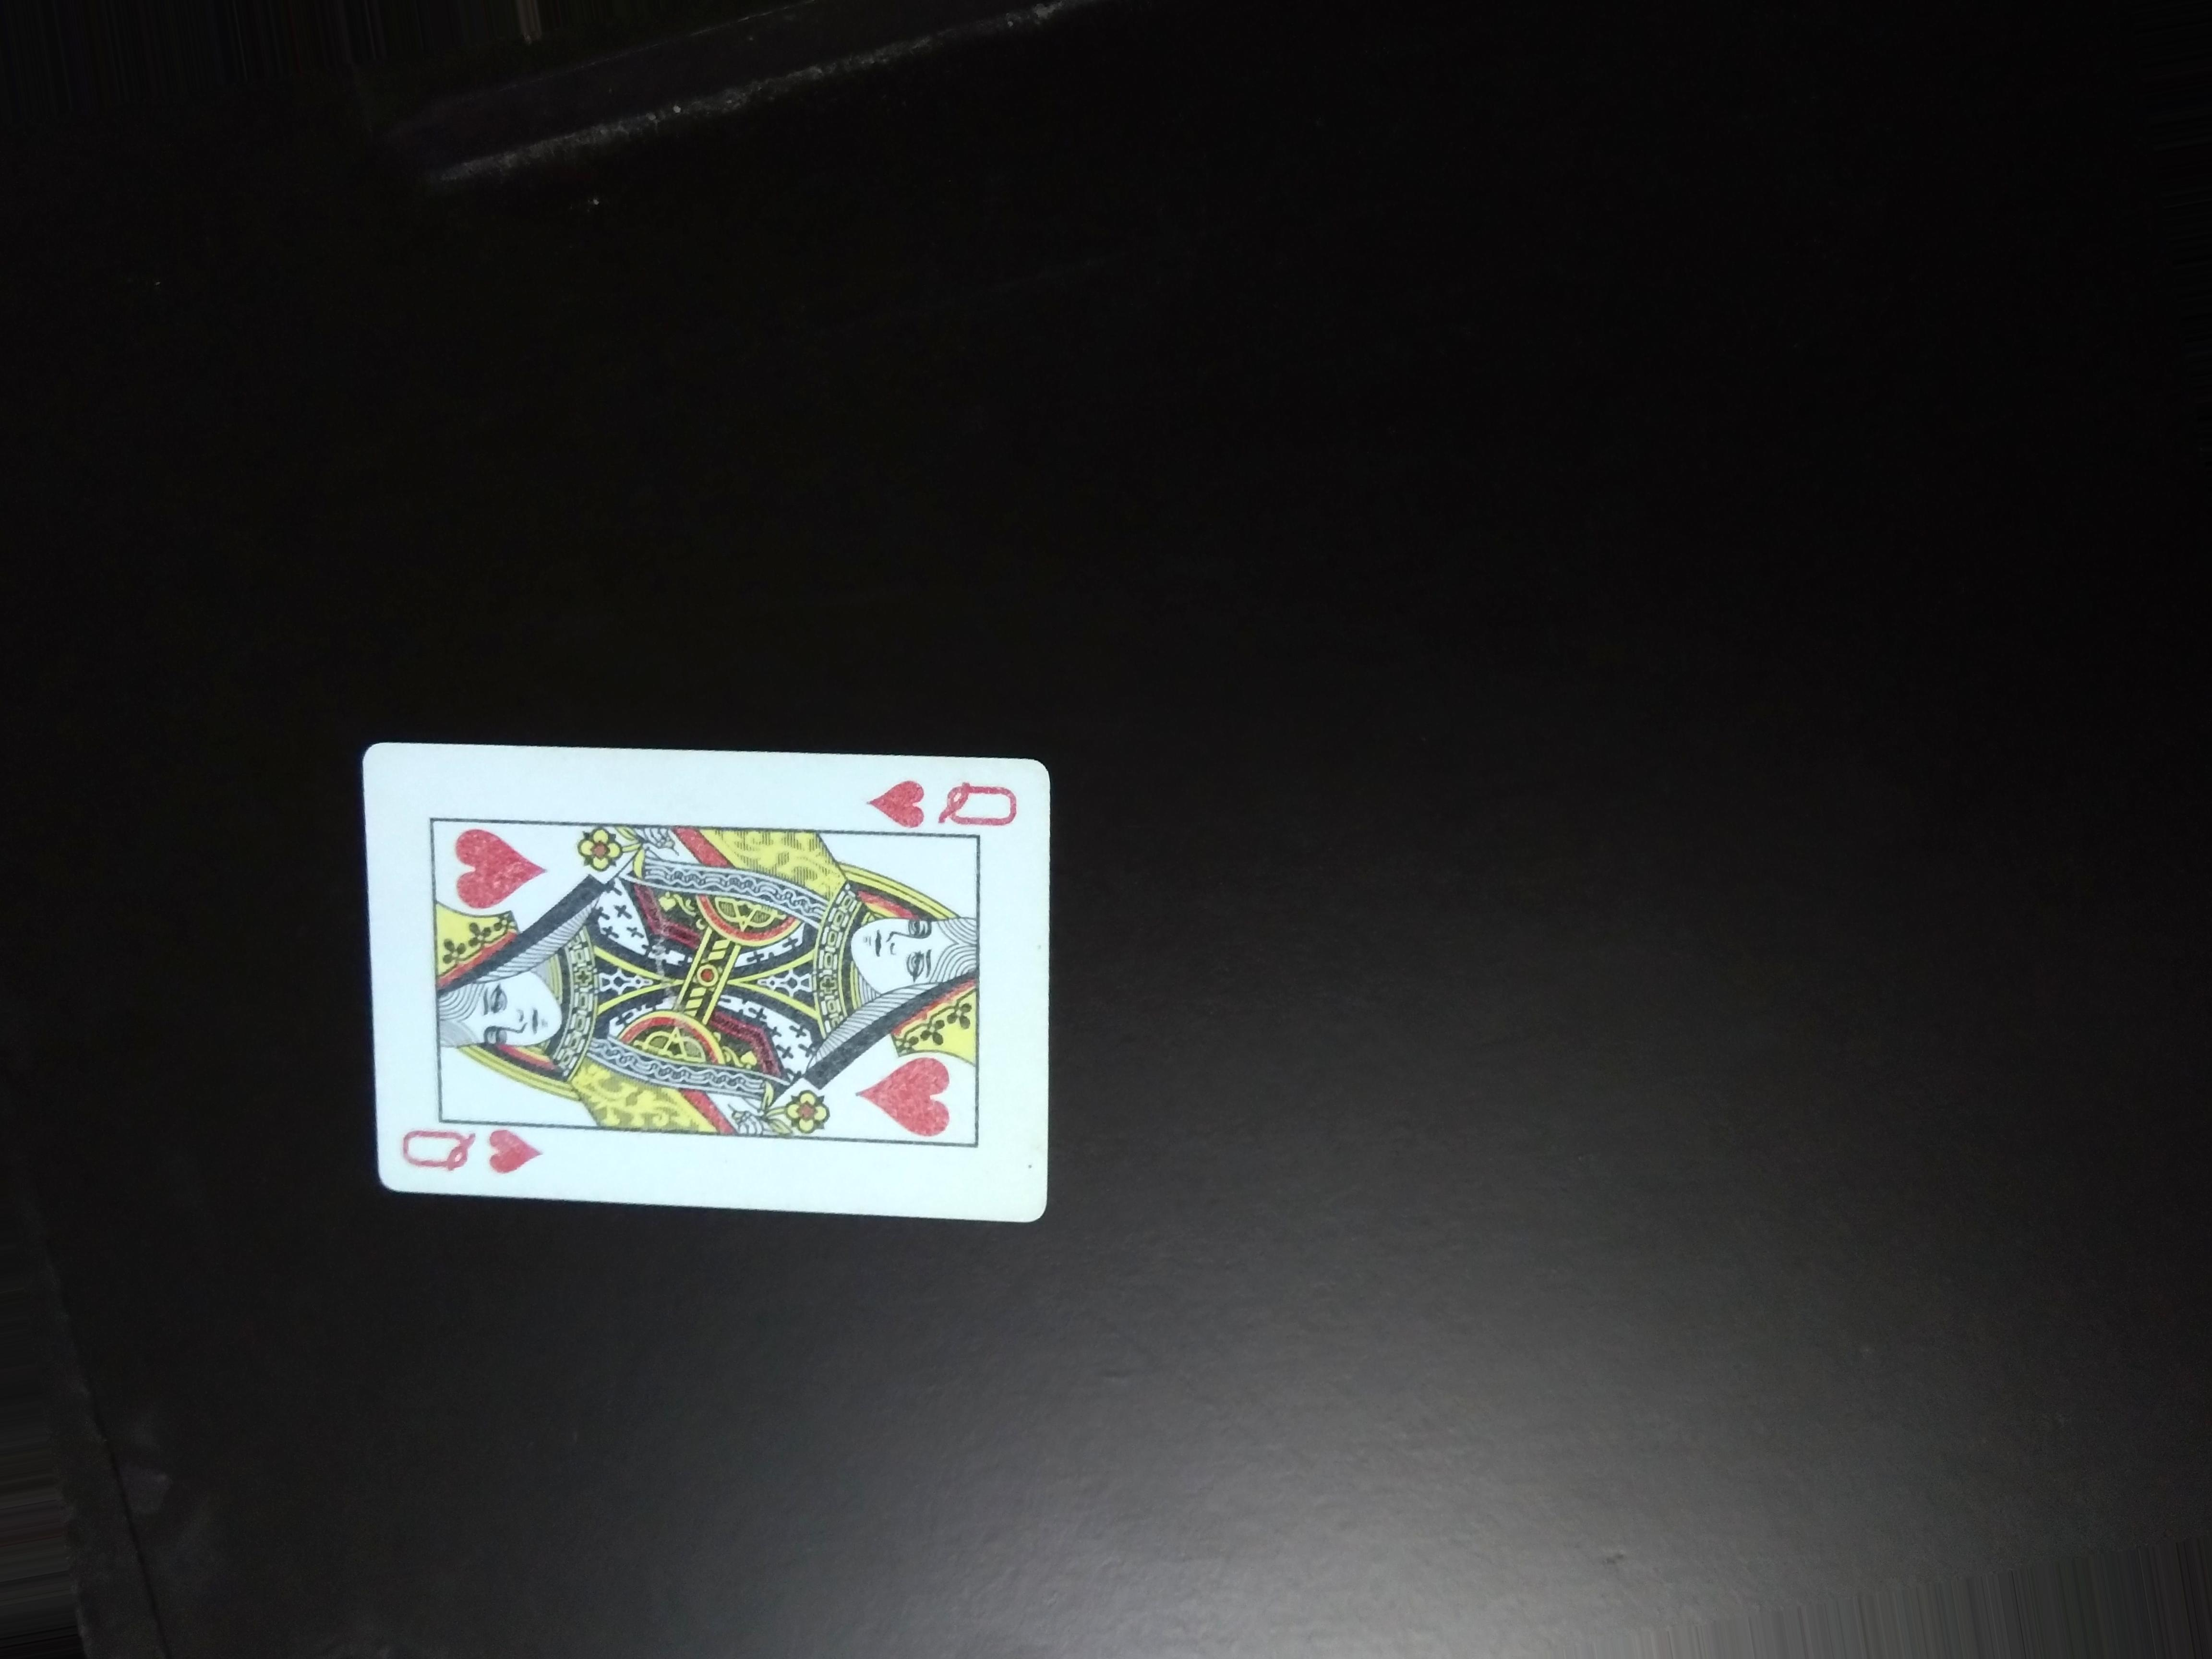QH: (371, 1114, 587, 1188)
